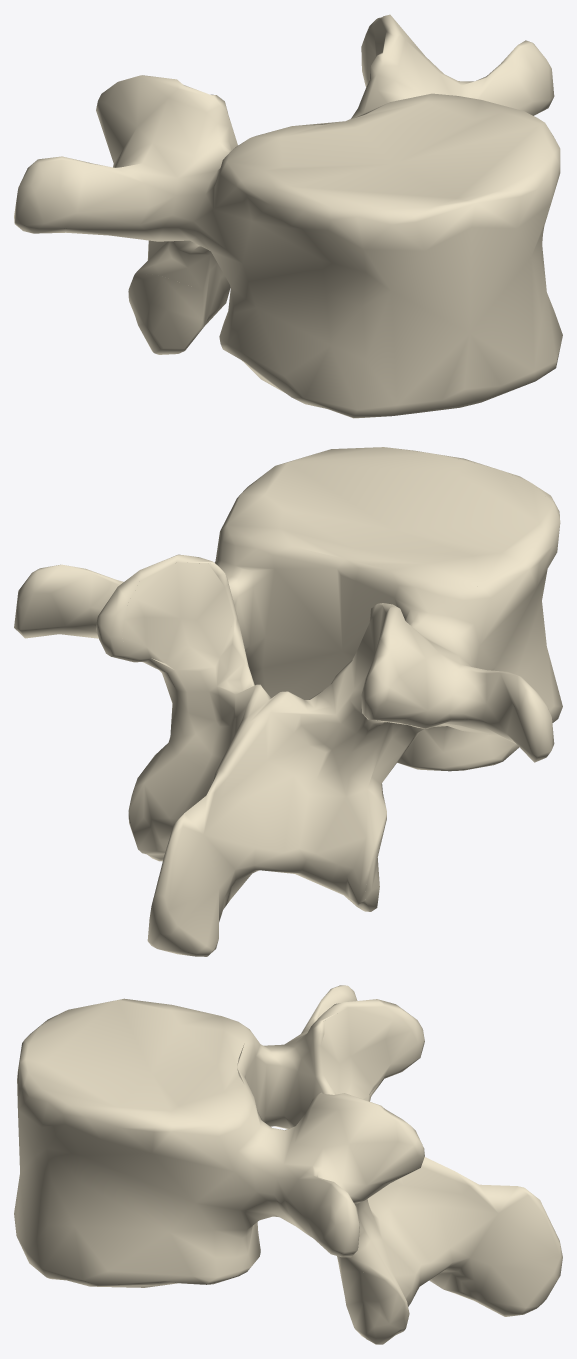
File: esqueleto-vertebra-l3.glb
3 views of the same model, one above another, from view 1: azimuth 30°, elevation 25°; view 2: azimuth 150°, elevation 25°; view 3: azimuth 270°, elevation 25° (orthographic). The views are drawn at different scales.
Parts seen in each view (by area): view 1: Vertebra L3; view 2: Vertebra L3; view 3: Vertebra L3.
Part boxes in pixels (bbox=[...]): Vertebra L3: bbox=[14, 14, 562, 418]; Vertebra L3: bbox=[14, 447, 562, 956]; Vertebra L3: bbox=[14, 985, 562, 1344].
Size of the model in its own units: 0.0835 by 0.0447 by 0.0849.
